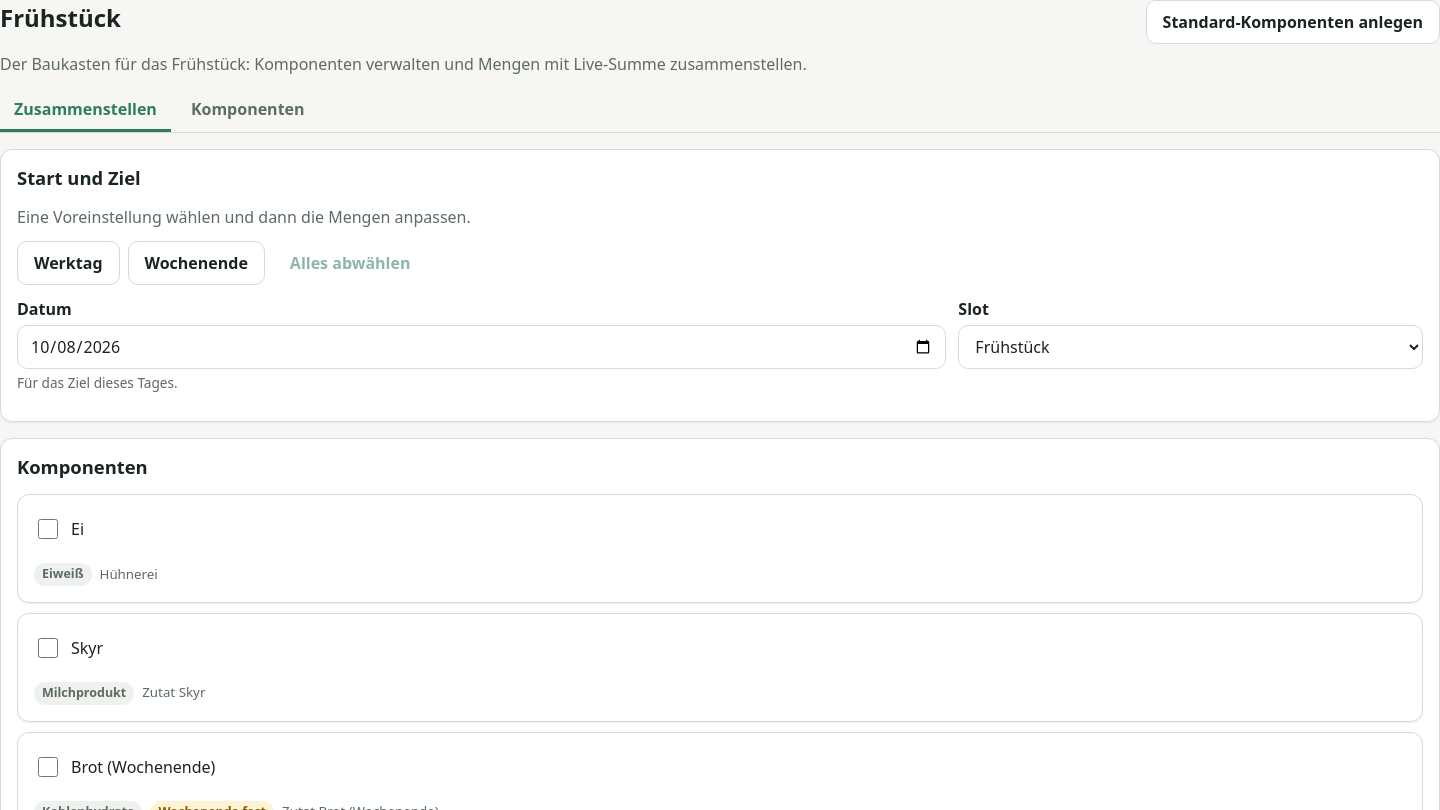
Scenario: Frühstück: Rechner › rechnet bei geänderter Menge im Zahlenfeld neu (entprellt)
Click the checkbox labelled "Skyr" at (48, 648), box x1=38 y1=638 x2=58 y2=658
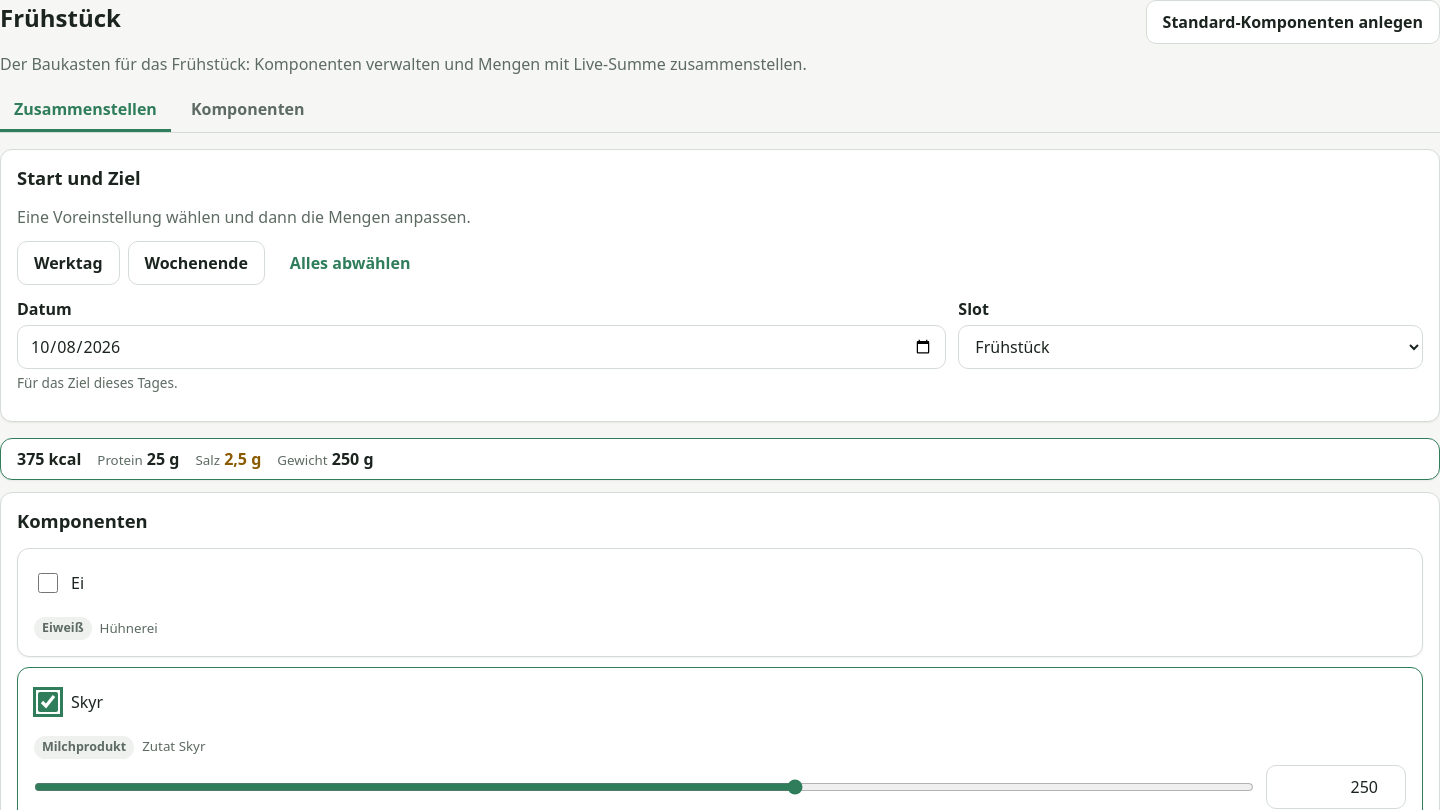
Expected: the number field named "Menge Skyr in Gramm" holds "250"
Replace the text in the number field named "Menge Skyr in Gramm" with "300" at (1336, 787), box x1=1266 y1=765 x2=1406 y2=809
(page scrolled)
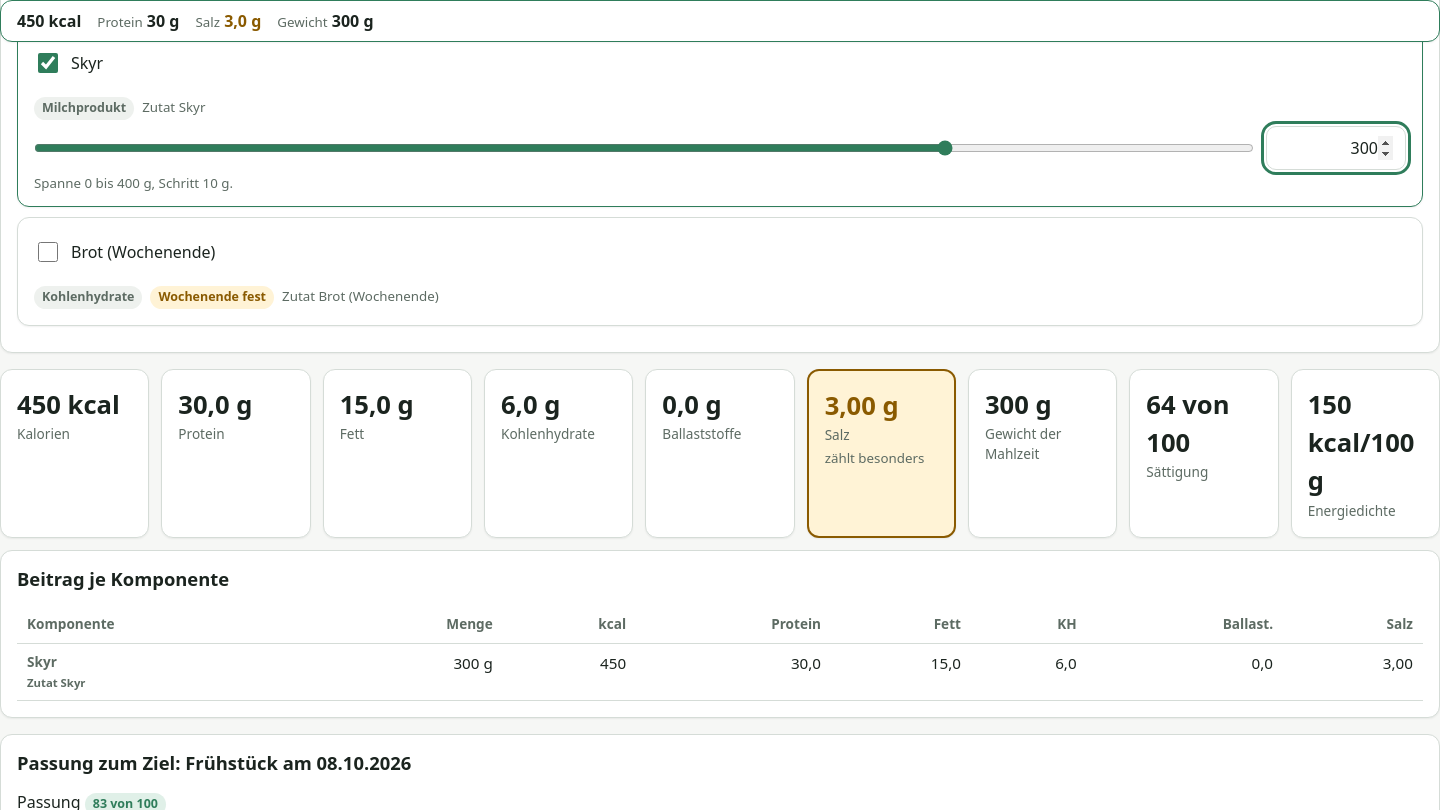
Expected: the text "450 kcal" next to "30,0 g" is shown, x1=17 y1=386 x2=120 y2=422
Expected: the text "3,00 g" is shown, x1=825 y1=388 x2=899 y2=422
